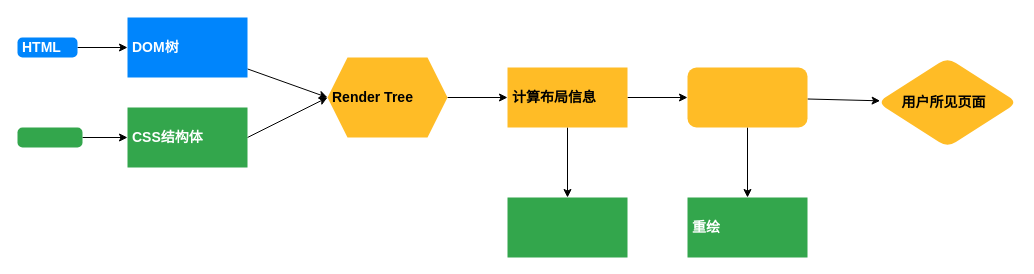
Image size: 1034x274. Some labels were removed from this diagram. Each missing label, with the centre of its shape:
CSS: the point at 49,137
UI引擎渲染: the point at 747,97
回流: the point at 567,227
